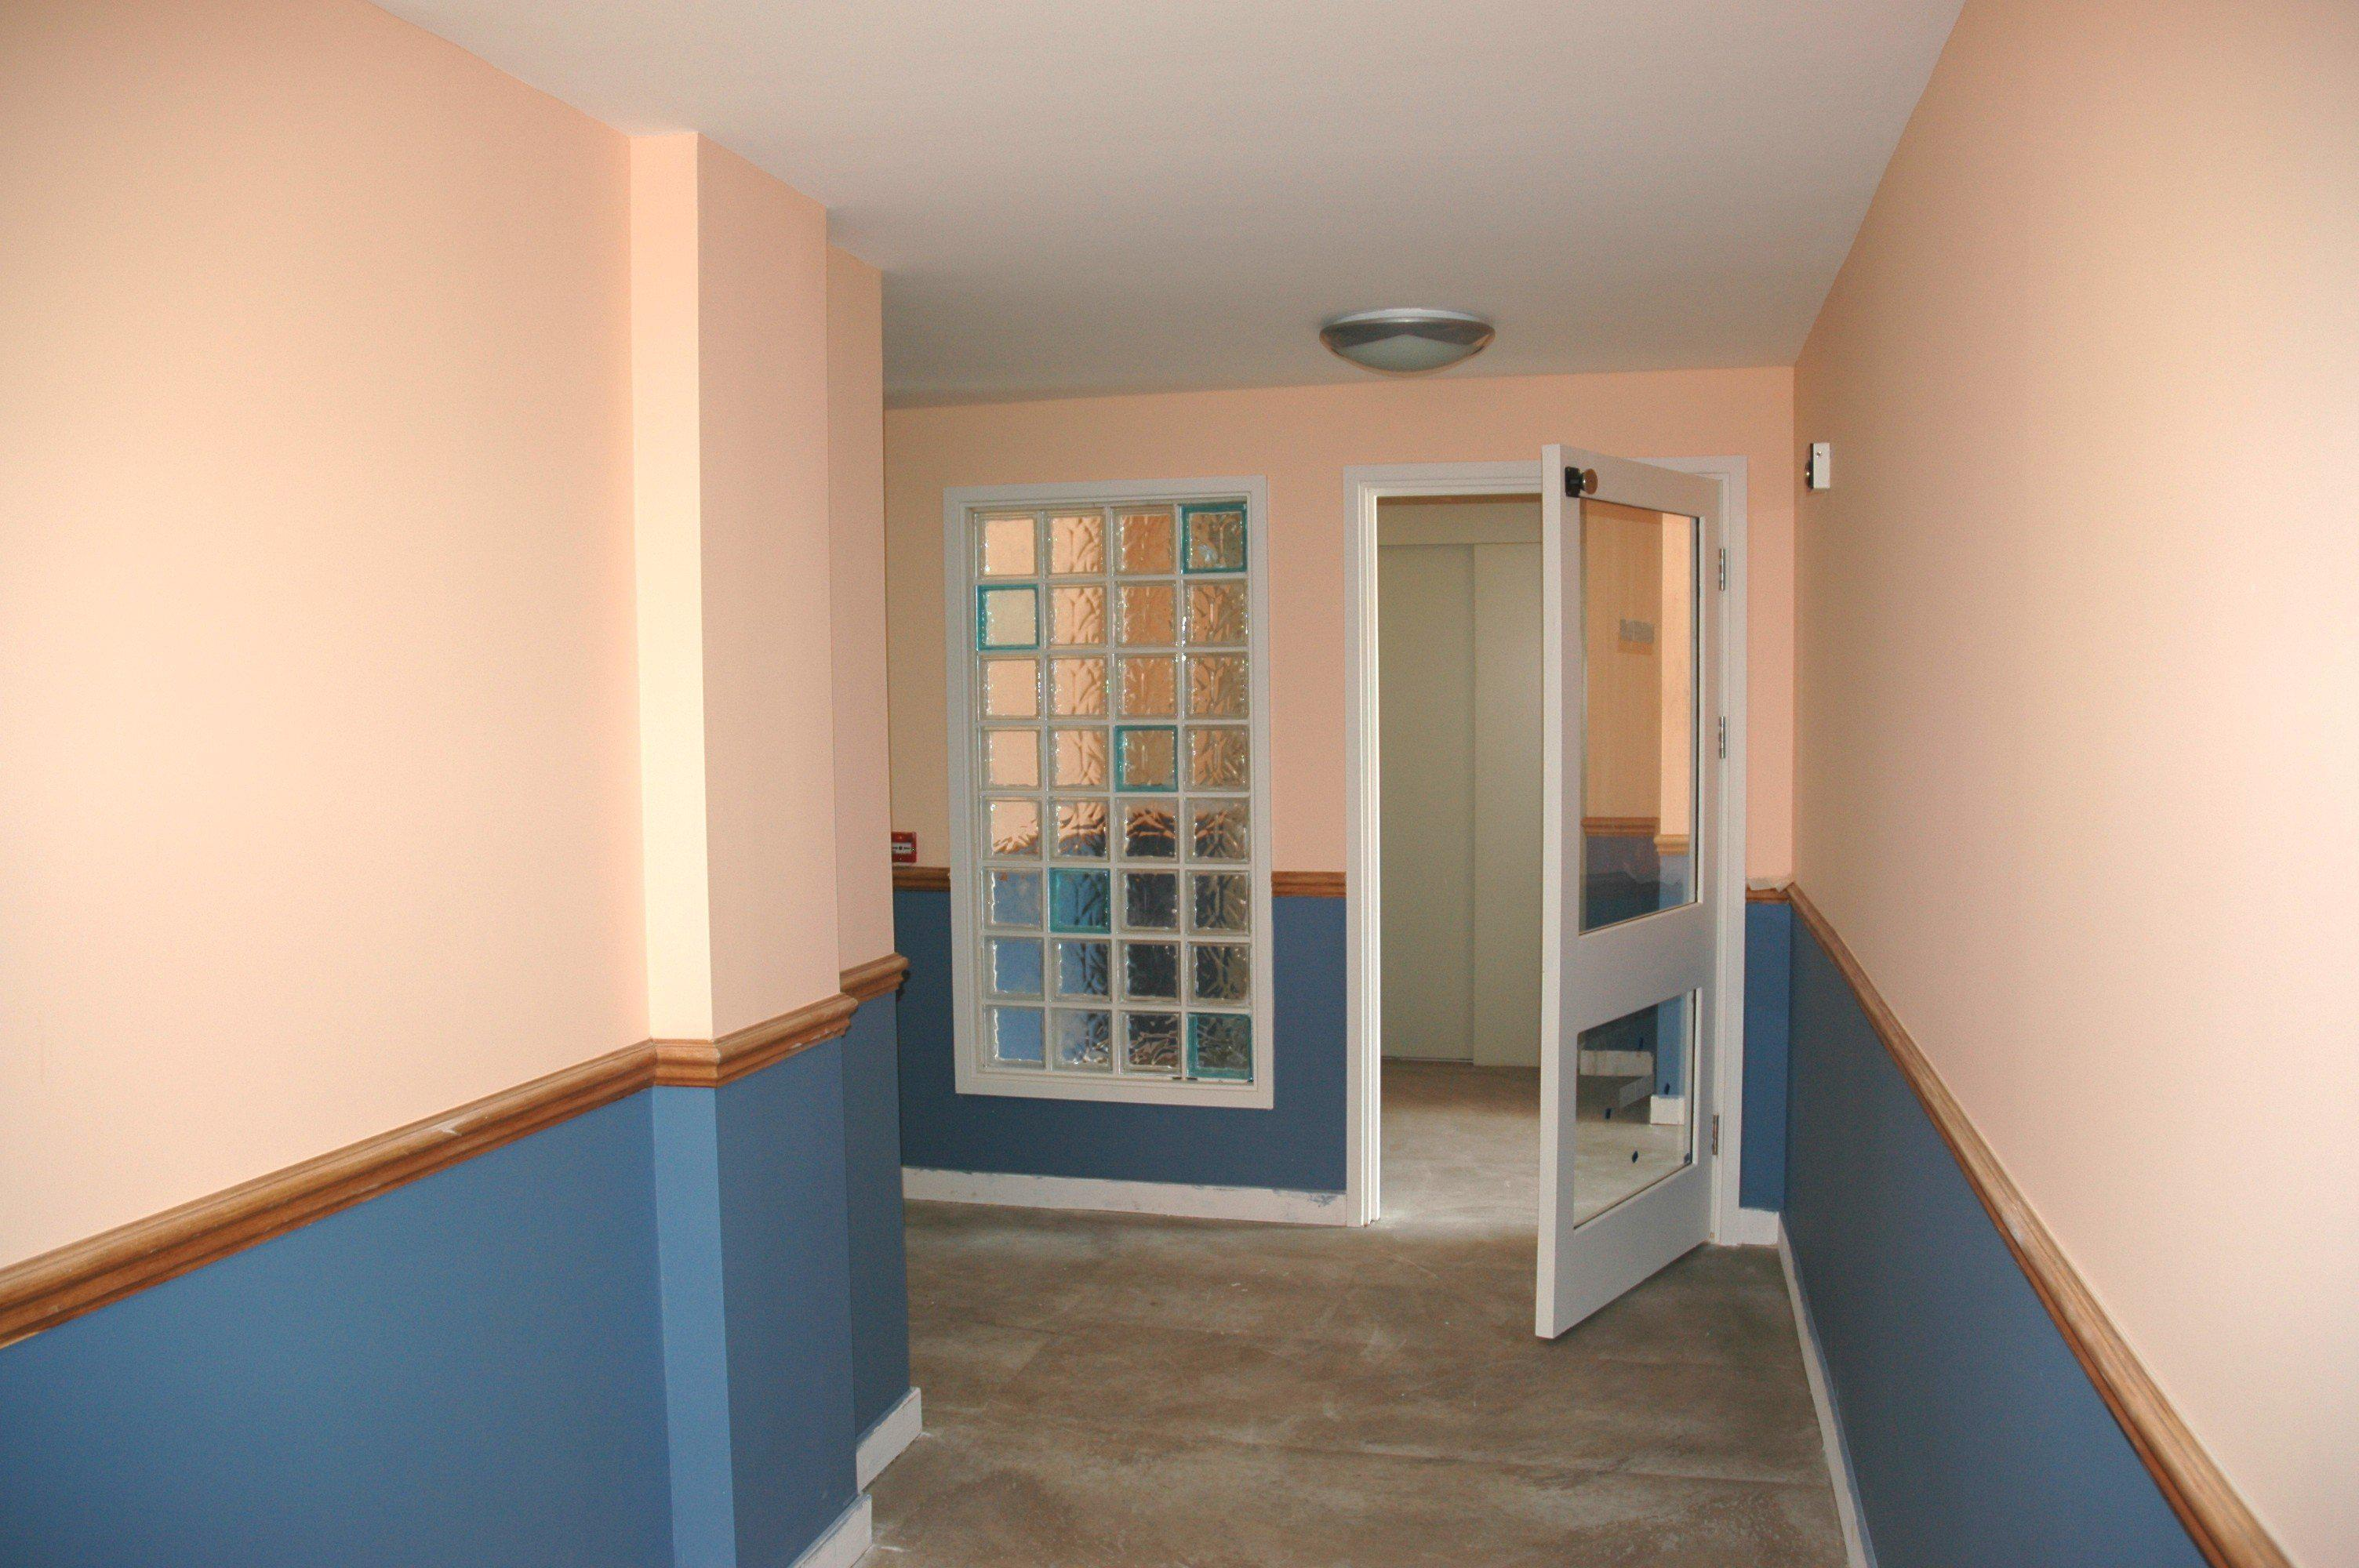Puerta: (1521, 467, 1731, 1356)
Ventana: (950, 480, 1283, 1097)
